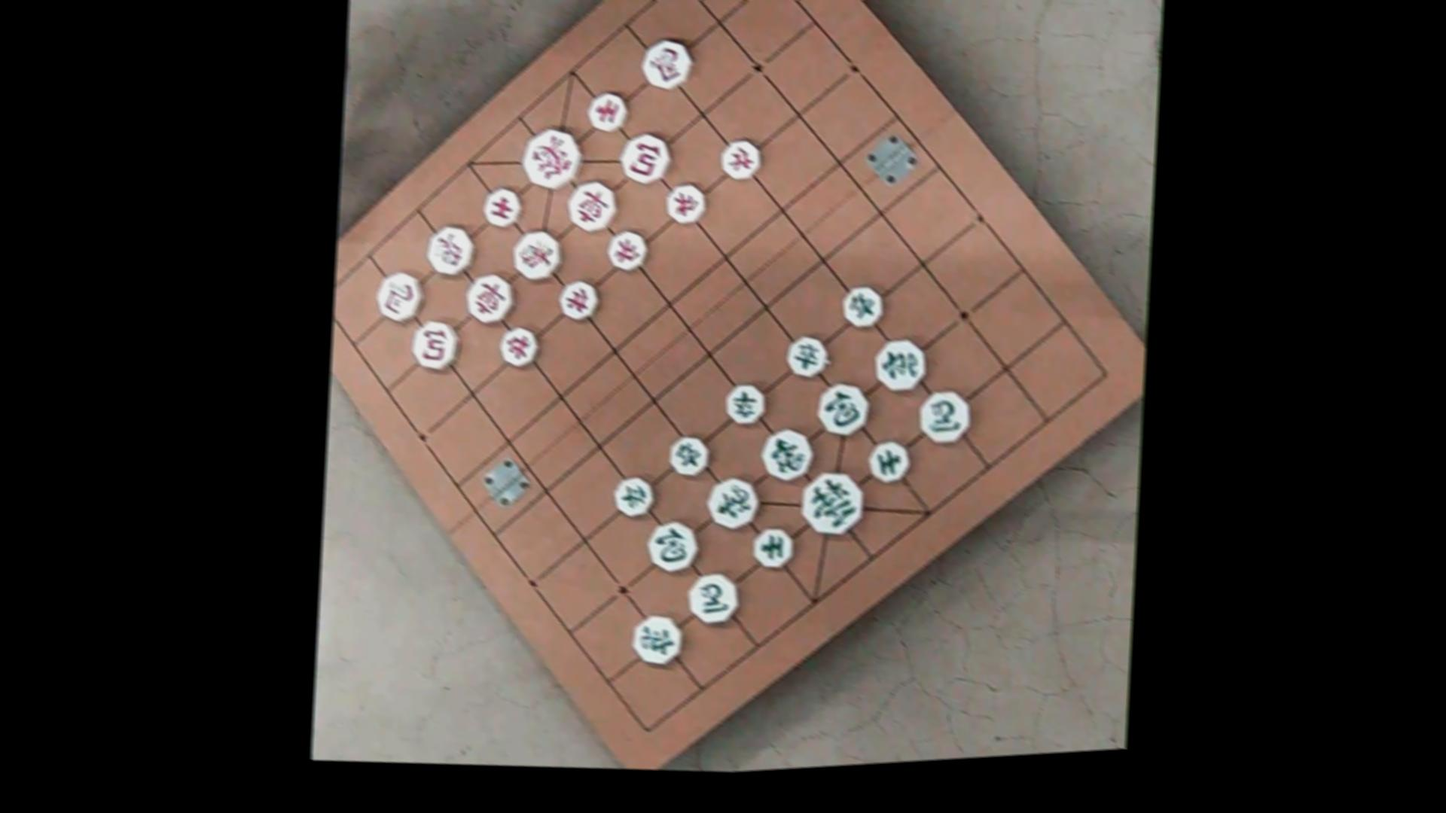cha_green: (872, 335, 929, 392), (630, 611, 685, 666)
cha_red: (566, 177, 620, 232), (465, 270, 517, 324)
jol_green: (785, 332, 831, 378), (840, 282, 886, 327), (667, 432, 711, 477), (724, 380, 767, 425), (612, 473, 657, 516)
jol_red: (719, 136, 763, 180), (664, 180, 708, 224), (497, 323, 540, 367), (558, 277, 601, 320), (607, 227, 649, 270)
ma_green: (917, 386, 973, 444), (685, 570, 741, 626)
ma_red: (640, 36, 694, 90), (374, 269, 426, 322)
po_green: (645, 516, 702, 574), (815, 379, 872, 436)
po_red: (618, 129, 673, 184), (410, 316, 461, 370)
sa_green: (867, 437, 912, 483), (752, 525, 796, 568)
sa_red: (585, 89, 630, 132), (481, 184, 524, 227)
sang_green: (704, 473, 762, 531), (759, 425, 816, 483)
sang_red: (511, 227, 564, 281), (426, 221, 477, 276)
wang_green: (798, 467, 868, 537)
wang_red: (519, 123, 585, 190)
